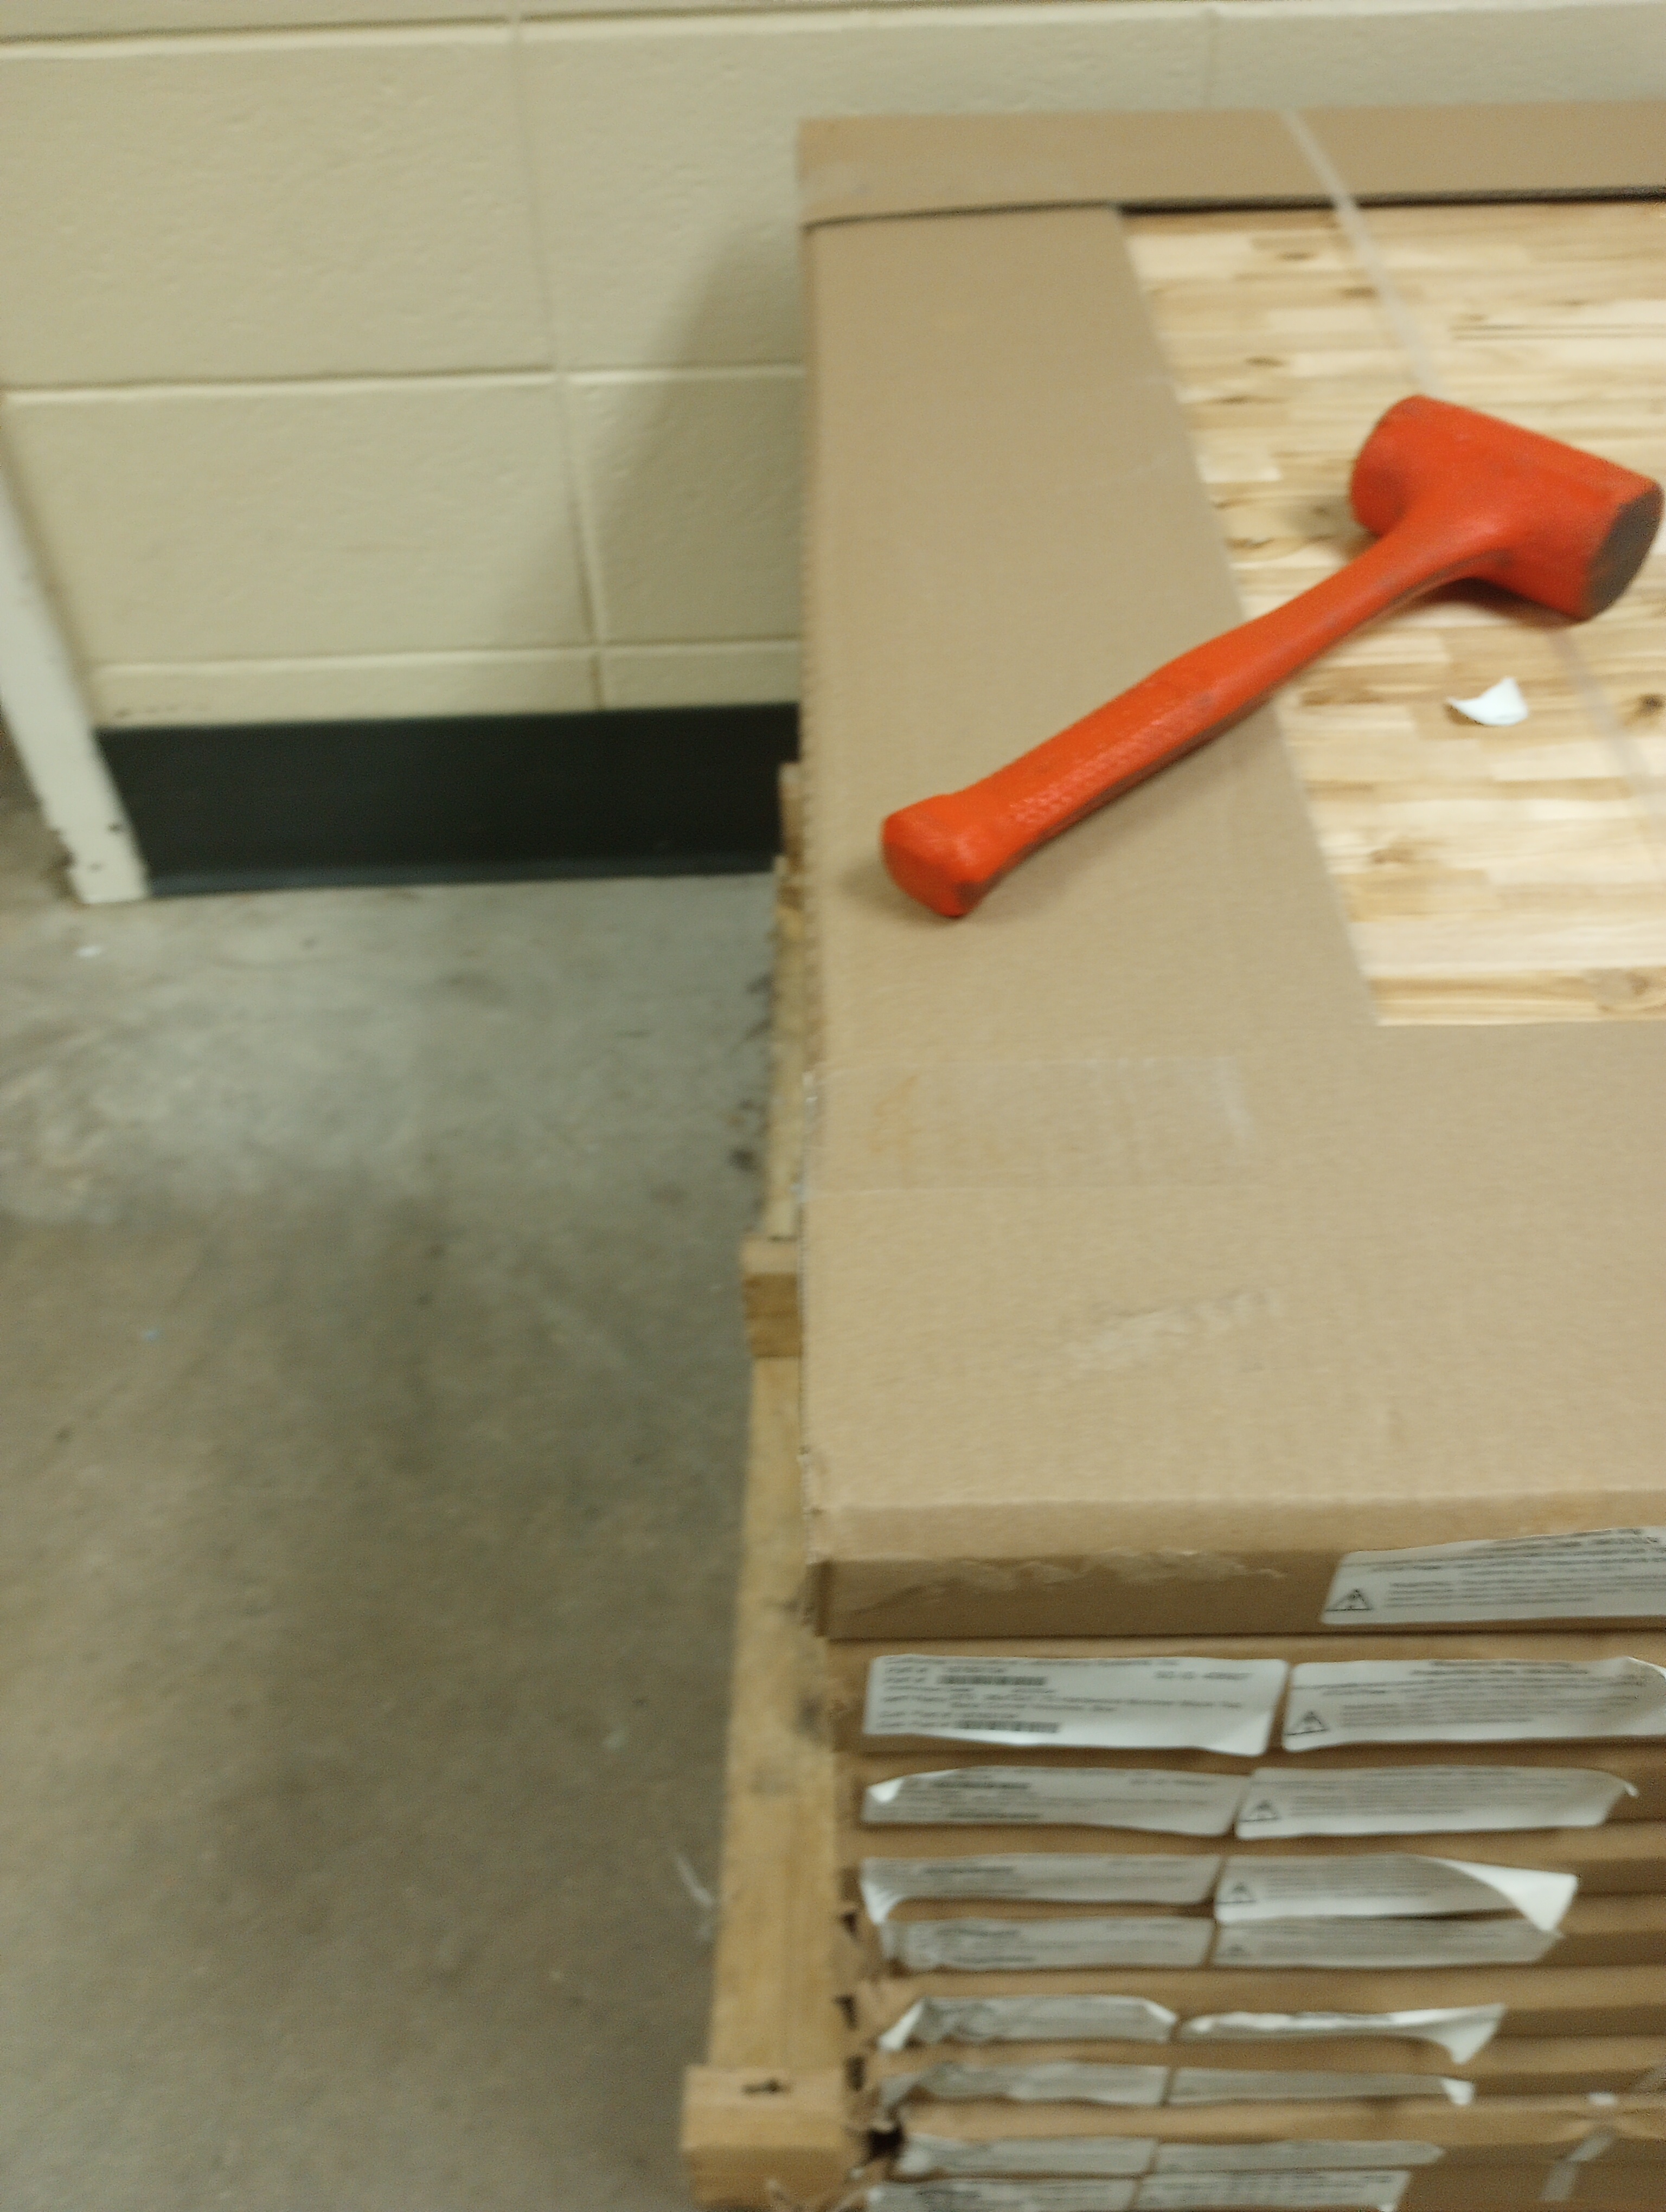bottle: (877, 386, 1663, 941)
